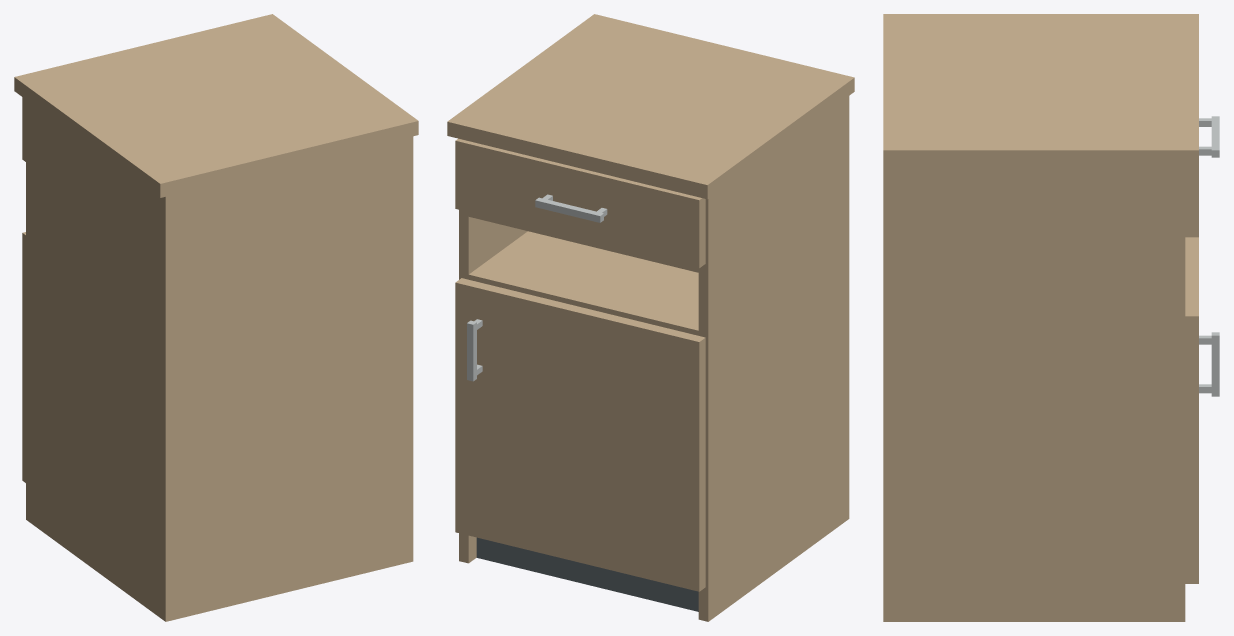
The model's file is bedside_table.fbx.
The picture shows the model from 3 angles, left to right: view 1: azimuth 30°, elevation 25°; view 2: azimuth 150°, elevation 25°; view 3: azimuth 270°, elevation 25°; orthographic projection. The views are drawn at different scales.
Parts seen in each view (by area): view 1: bedside_table; view 2: bedside_table; view 3: bedside_table.
Part boxes in pixels (x1,y1,x2,y2): bedside_table: (14,14,418,621); bedside_table: (447,14,854,621); bedside_table: (883,14,1219,621).
Size of the model in its own units: 48 by 78 by 50.1.
